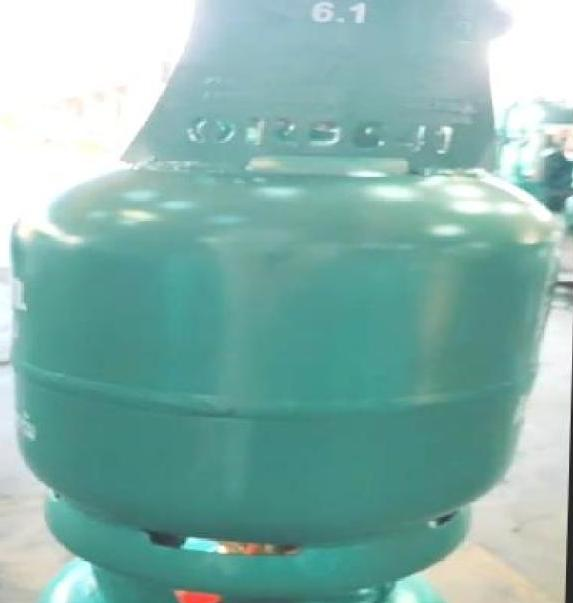cylinder: (1, 0, 573, 603)
